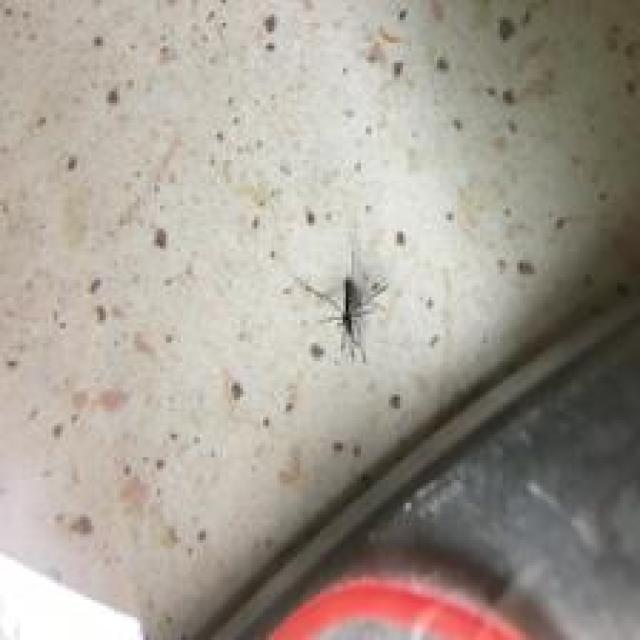Aedes albopictus: (301, 248, 390, 363)
